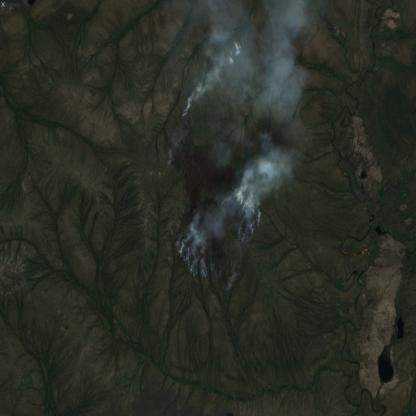fire: (164, 102, 262, 295)
